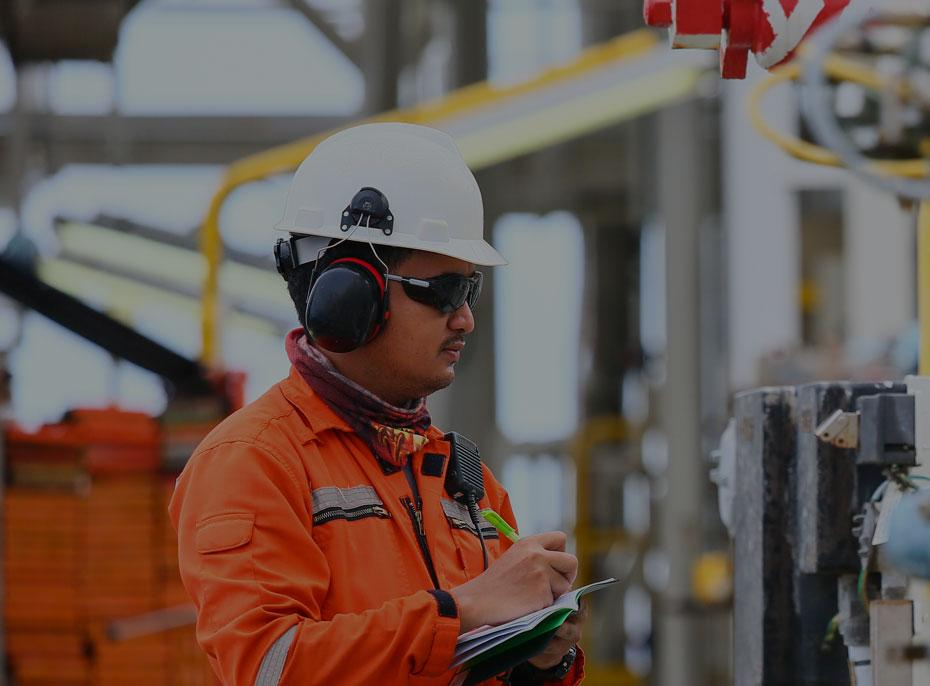helmet: (277, 126, 505, 272)
